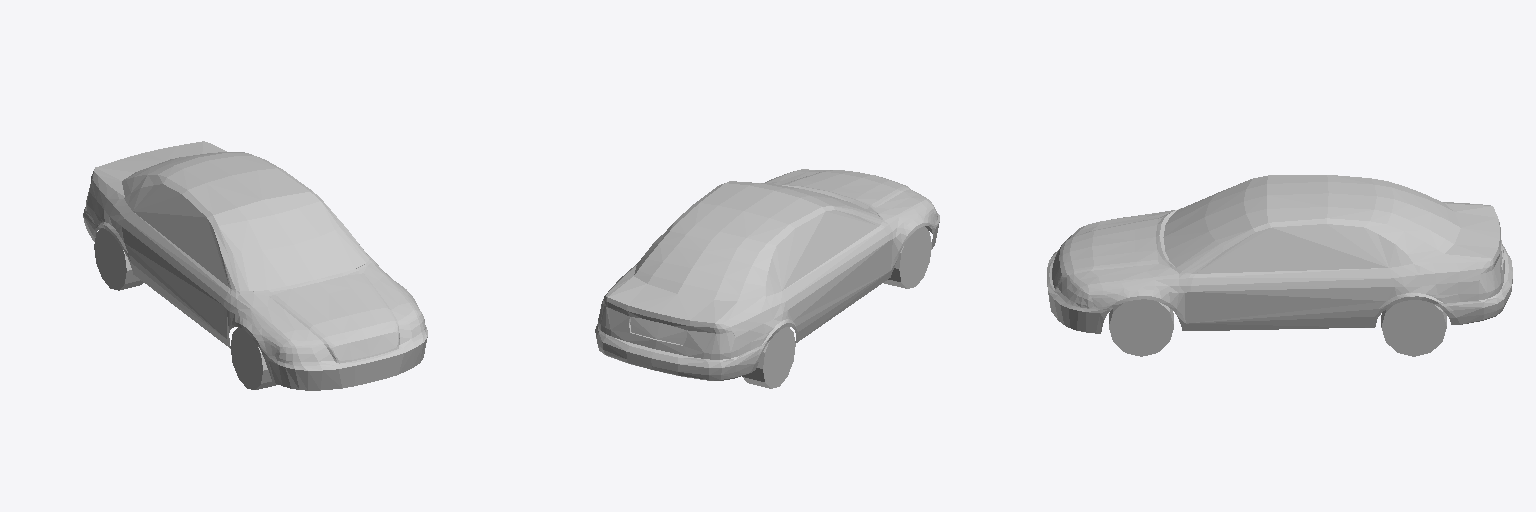
Rendered from audi.obj.
3 renders of one model, left to right at view 1: azimuth 30°, elevation 25°; view 2: azimuth 150°, elevation 25°; view 3: azimuth 270°, elevation 25°, orthographic.
Parts seen in each view (by area): view 1: Audi_LOD1, Audi_LOD1 Wheels, Audi_LOD1 Lights; view 2: Audi_LOD1, Audi_LOD1 Wheels, Audi_LOD1 Lights; view 3: Audi_LOD1, Audi_LOD1 Wheels, Audi_LOD1 Lights.
Part boxes in pixels (bbox=[...]): Audi_LOD1: bbox=[83, 141, 427, 390]; Audi_LOD1 Wheels: bbox=[94, 228, 277, 389]; Audi_LOD1 Lights: bbox=[86, 184, 425, 361]; Audi_LOD1: bbox=[595, 169, 939, 380]; Audi_LOD1 Wheels: bbox=[742, 226, 931, 388]; Audi_LOD1 Lights: bbox=[598, 205, 937, 353]; Audi_LOD1: bbox=[1047, 175, 1512, 333]; Audi_LOD1 Wheels: bbox=[1109, 299, 1446, 356]; Audi_LOD1 Lights: bbox=[1058, 236, 1500, 305].
Size of the model in its own units: 1.78 by 1.32 by 4.45.